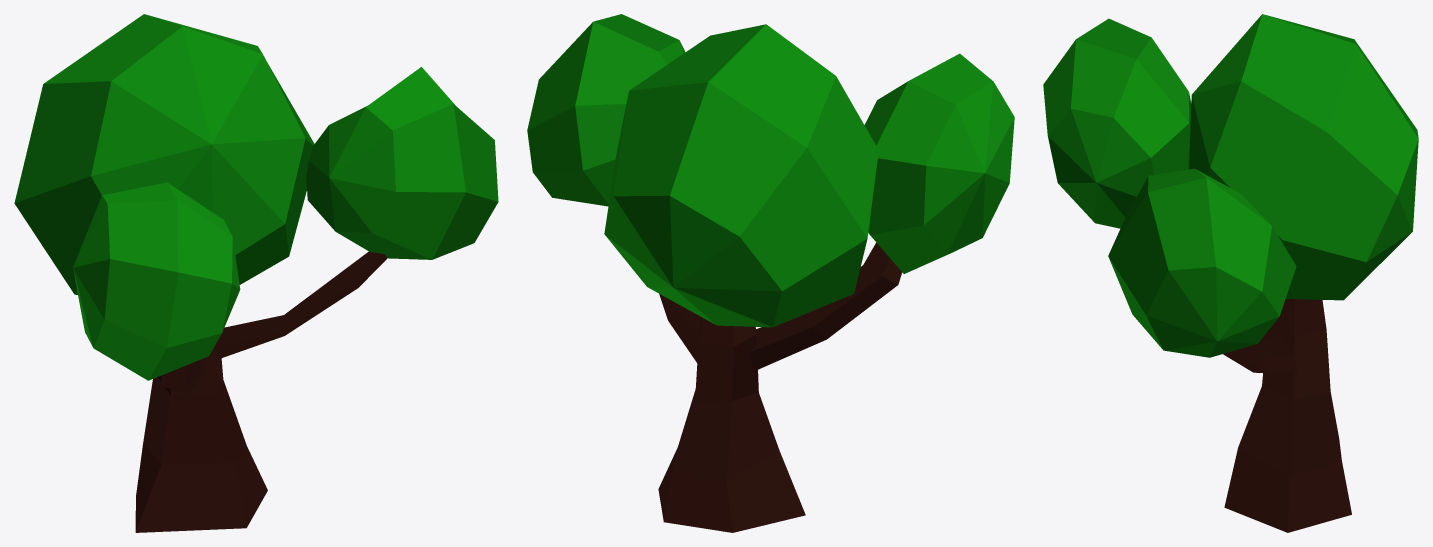
The model's file is Tree6.FBX.
3 renders of one model, left to right at view 1: azimuth 30°, elevation 25°; view 2: azimuth 150°, elevation 25°; view 3: azimuth 270°, elevation 25°, orthographic. The views are drawn at different scales.
Parts seen in each view (by area): view 1: Tree6_d, Tree6_b, Tree6_c, Tree6_a; view 2: Tree6_d, Tree6_a, Tree6_c, Tree6_b; view 3: Tree6_d, Tree6_b, Tree6_c, Tree6_a.
Part boxes in pixels (left/top/right/bottom): Tree6_d: left=14, top=14, right=314, bottom=294; Tree6_b: left=306, top=67, right=498, bottom=259; Tree6_c: left=73, top=182, right=240, bottom=380; Tree6_a: left=135, top=251, right=387, bottom=532; Tree6_d: left=604, top=24, right=878, bottom=327; Tree6_a: left=658, top=242, right=901, bottom=532; Tree6_c: left=864, top=53, right=1014, bottom=273; Tree6_b: left=527, top=14, right=685, bottom=206; Tree6_d: left=1188, top=14, right=1418, bottom=300; Tree6_b: left=1108, top=168, right=1296, bottom=357; Tree6_c: left=1043, top=18, right=1191, bottom=228; Tree6_a: left=1223, top=299, right=1351, bottom=532.
Bounding box in the file's own units: 14685 × 16008 × 11513.
